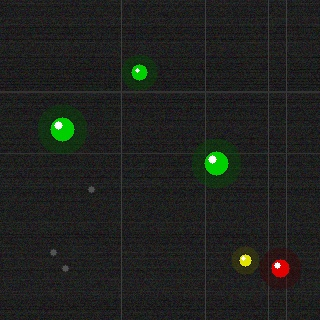green_normal: (202, 149, 230, 177), (48, 115, 76, 143), (129, 62, 149, 82)
red_fault: (269, 257, 291, 279)
yellow_warning: (237, 252, 253, 268)
